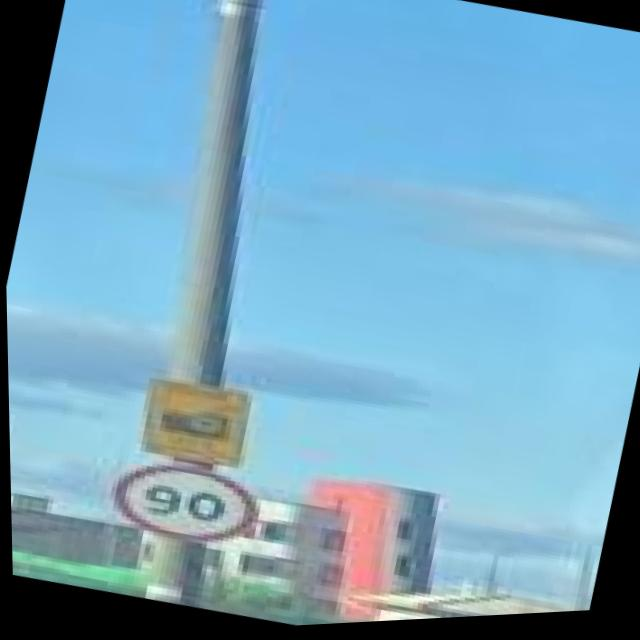Speed Limit -90-: (89, 443, 274, 567)
